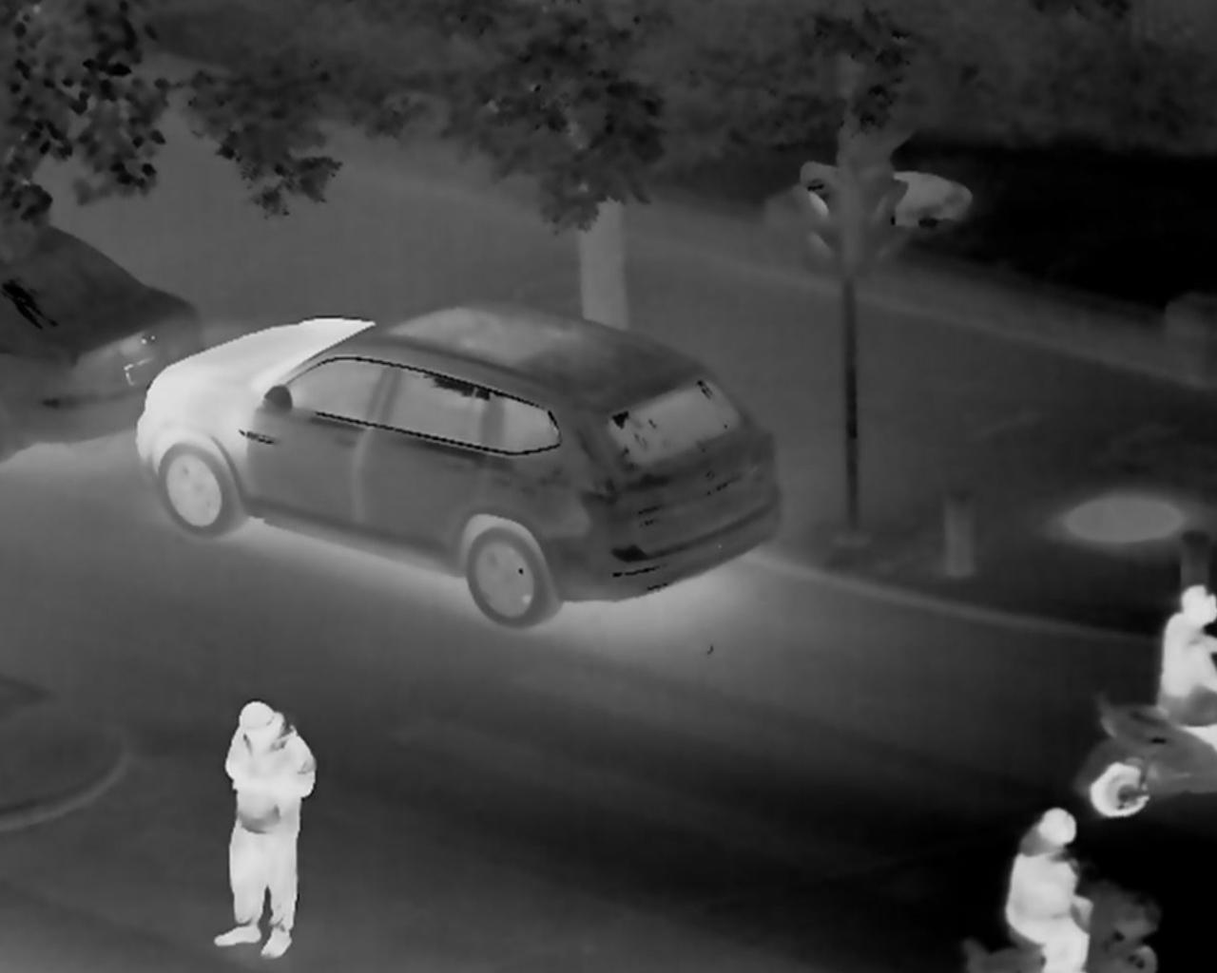person: (208, 696, 319, 960), (995, 797, 1097, 973), (1149, 581, 1217, 754)
